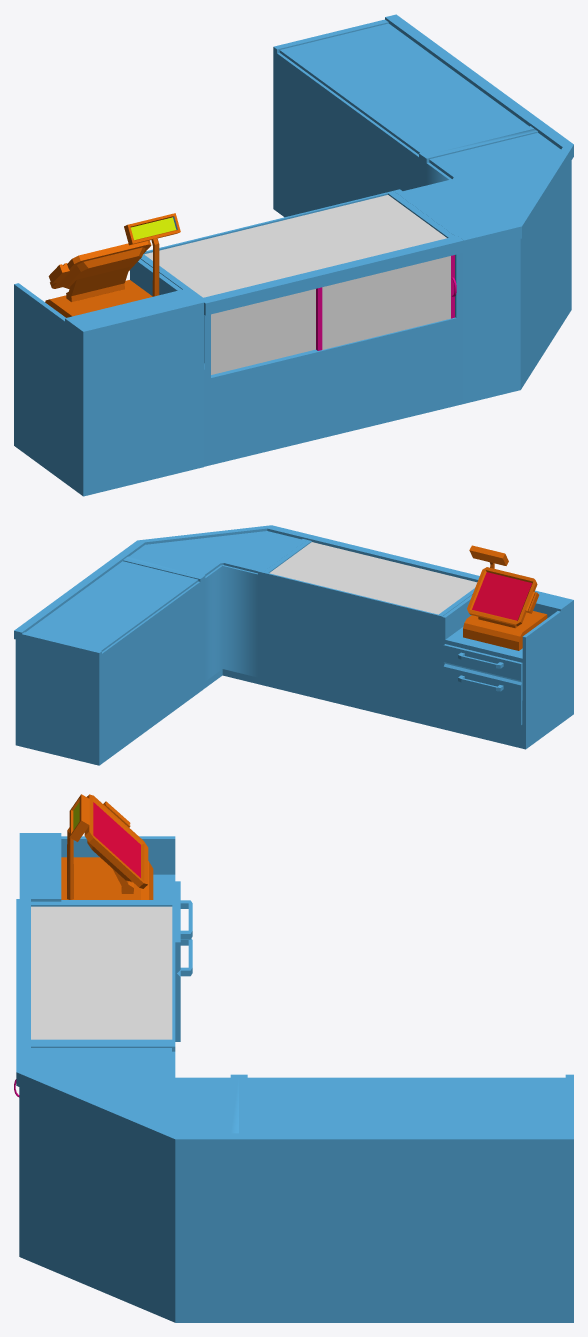
The model's file is Checkout.fbx.
The picture shows the model from 3 angles, top to bottom: view 1: azimuth 30°, elevation 25°; view 2: azimuth 150°, elevation 25°; view 3: azimuth 270°, elevation 25°; orthographic projection. The views are drawn at different scales.
Visible parts, largest first — view 1: Checkout; view 2: Checkout; view 3: Checkout.
Boxes of the visible parts, <box> form: Checkout: <box>14,14,573,496</box>; Checkout: <box>14,525,573,765</box>; Checkout: <box>14,794,573,1322</box>.
Bounding box in the file's own units: 325 × 130 × 251.
